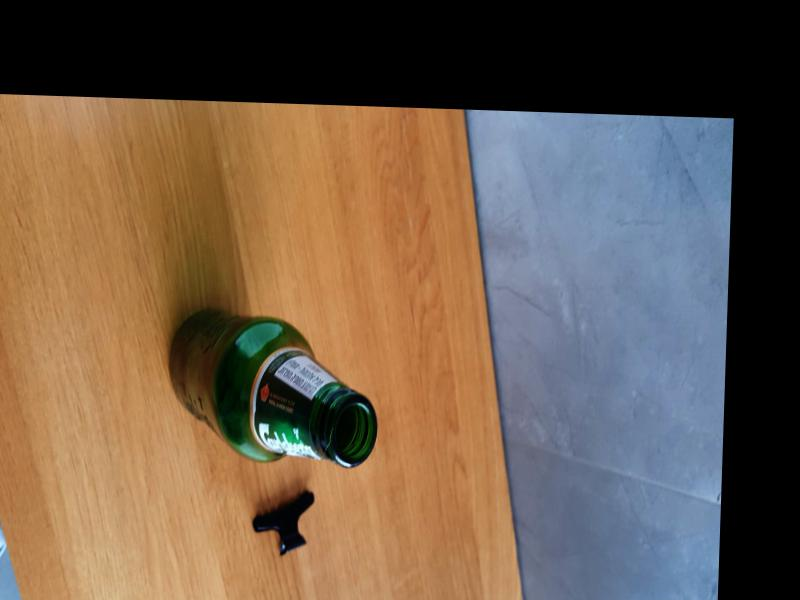Beer: (163, 307, 380, 469)
